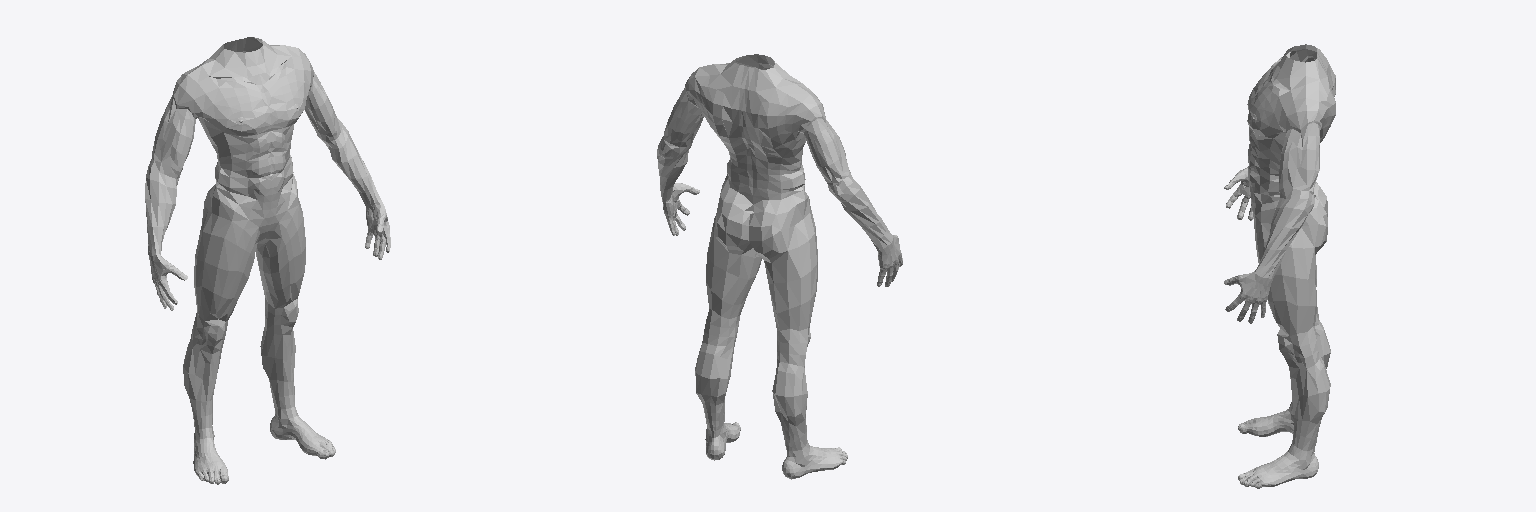
File: body_butt_abs.obj
3 renders of one model, left to right at view 1: azimuth 30°, elevation 25°; view 2: azimuth 150°, elevation 25°; view 3: azimuth 270°, elevation 25°, orthographic.
Visible parts, largest first — view 1: body; view 2: body; view 3: body.
Part boxes in pixels (bbox=[...]): body: bbox=[145, 37, 390, 484]; body: bbox=[657, 54, 902, 479]; body: bbox=[1224, 44, 1335, 488].
Bounding box in the file's own units: 48.46 × 81.31 × 20.31.